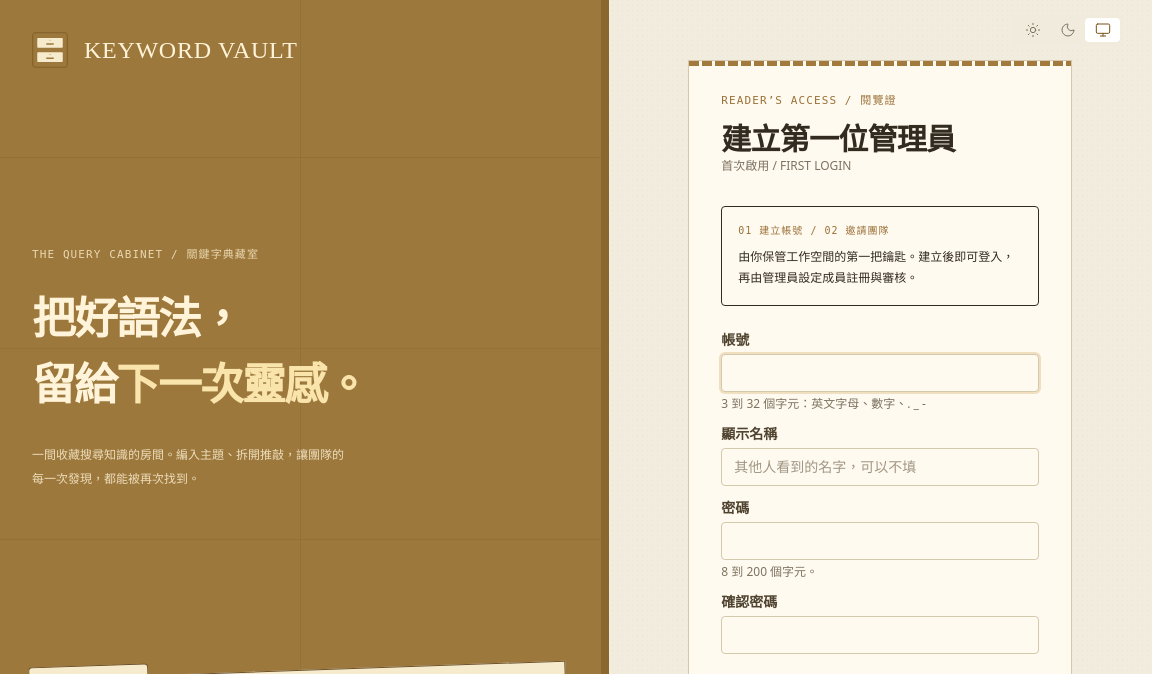
it: failed setup shows server error and allows retry
Type "nat" into the field labelled "帳號" at (880, 373), box [721,354,1039,392]
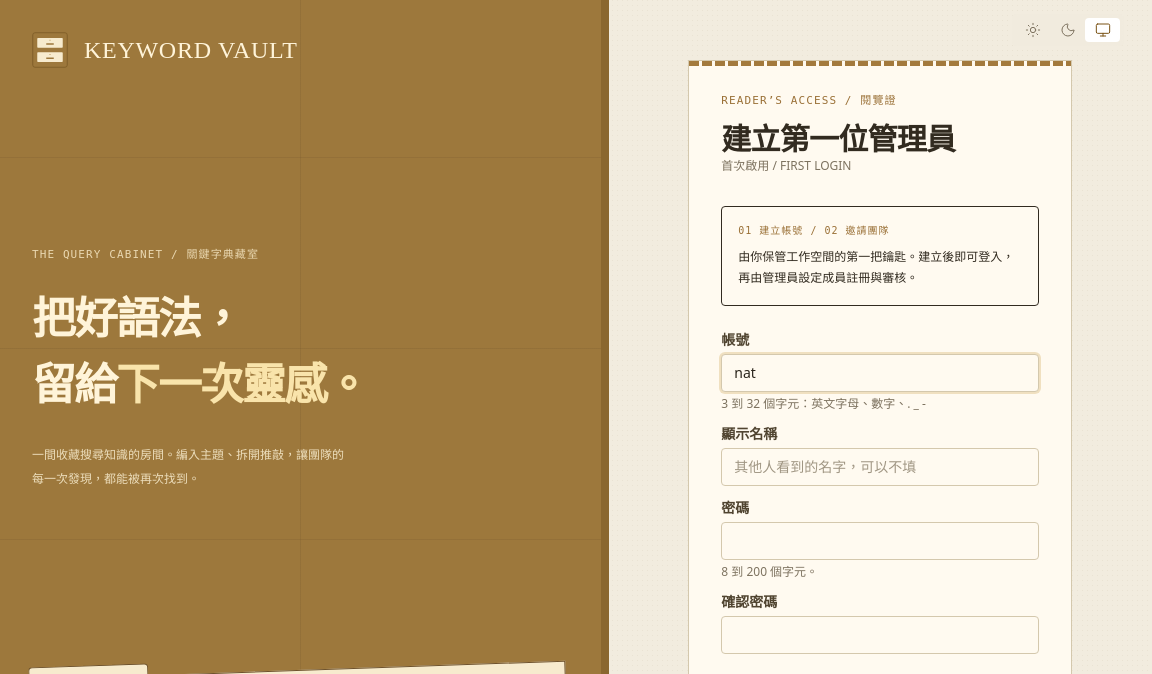
Type "correct horse" into the password field labelled "密碼" at (880, 541), box [721,522,1039,560]
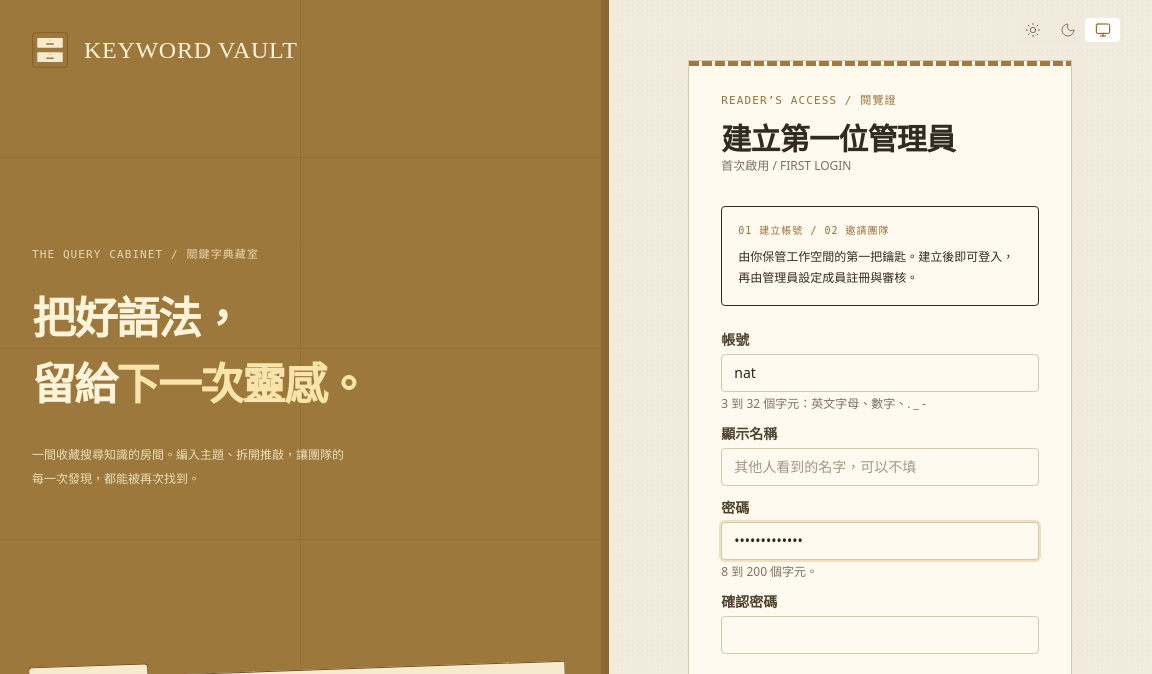
Type "correct horse" into the password field labelled "確認密碼" at (880, 635), box [721,616,1039,654]
(page scrolled)
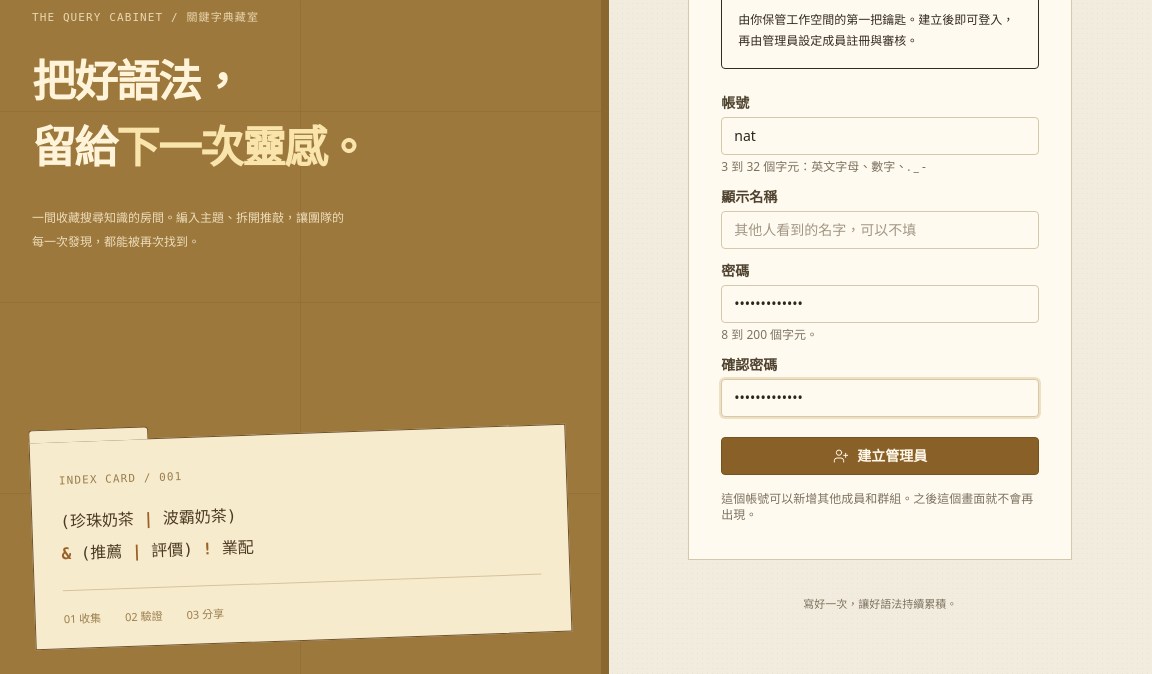
Click the button "建立管理員" at (880, 456), box [721,437,1039,475]
(page scrolled)
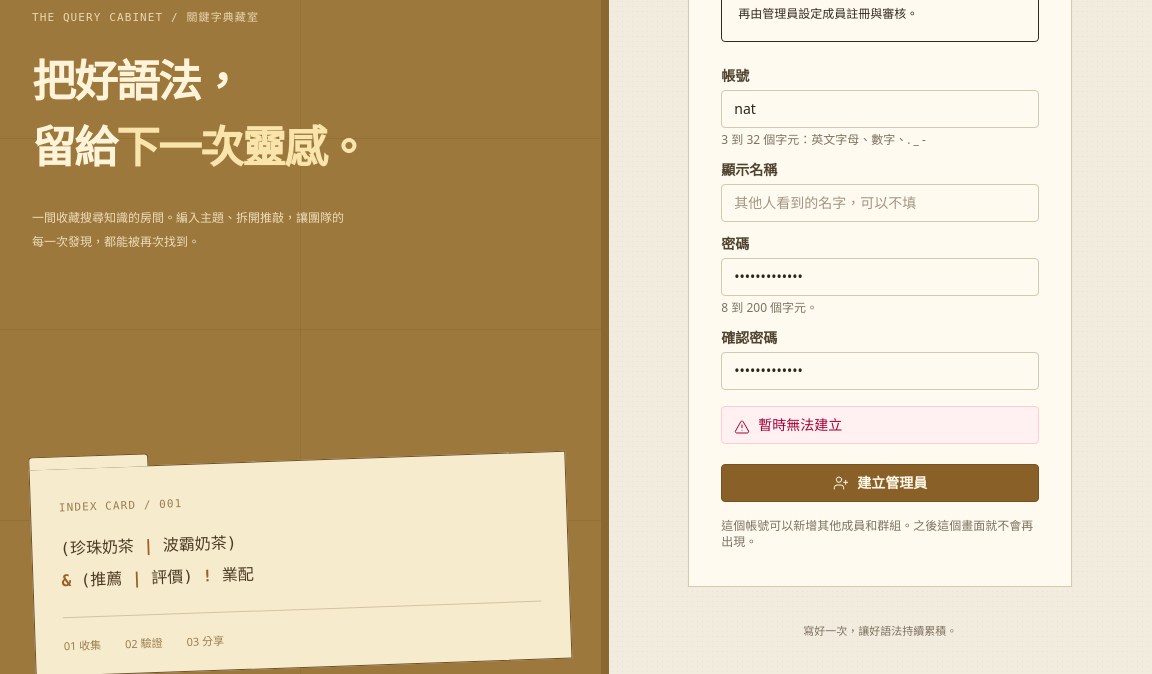
expect the button "建立管理員" is enabled: met, box [721,464,1039,502]
expect the message reads "暫時無法建立": met, box [758,415,842,434]
